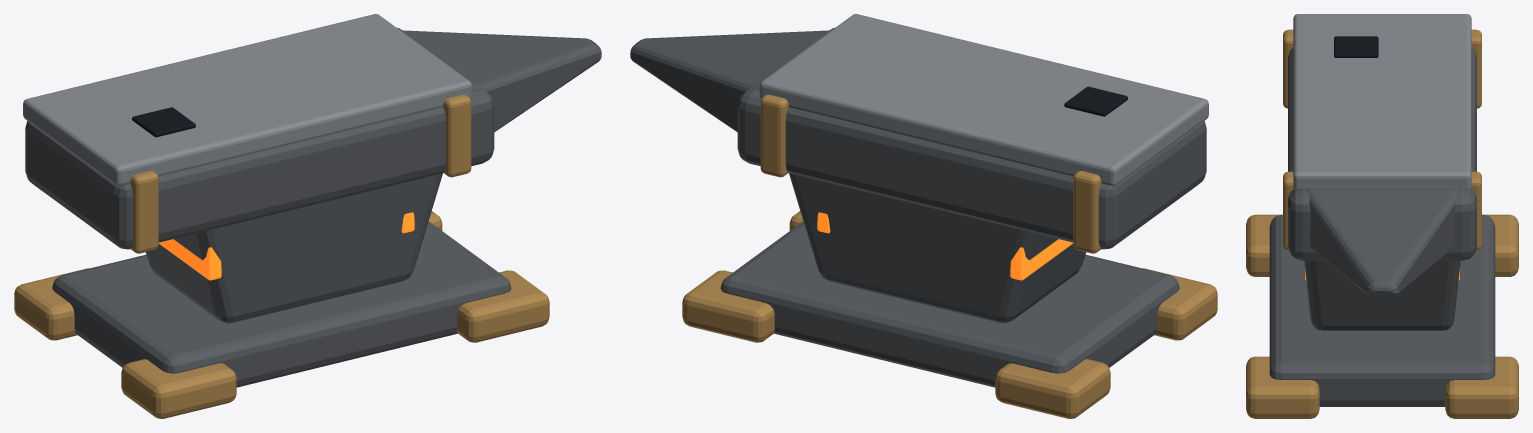
The model's file is forging-anvil-2_5d.glb.
3 renders of one model, left to right at view 1: azimuth 30°, elevation 25°; view 2: azimuth 150°, elevation 25°; view 3: azimuth 270°, elevation 25°, orthographic. The views are drawn at different scales.
Parts seen in each view (by area): view 1: Strike_Face, Base_Core, Top_Block, Waist, Horn, Foot_FL, Foot_FR, Foot_BL, Top_Brass_-1.53, Top_Brass_+1.03, Hardy_Hole_Inset, Ember_Seam_Left; view 2: Strike_Face, Base_Core, Top_Block, Waist, Horn, Foot_BL, Foot_BR, Foot_FL, Top_Brass_-1.53, Top_Brass_+1.03, Hardy_Hole_Inset, Ember_Seam_Left; view 3: Strike_Face, Base_Core, Horn, Waist, Top_Block, Foot_BR, Foot_FR, Foot_BL, Foot_FL, Top_Brass_+1.03, Top_Brass_-1.53, Hardy_Hole_Inset.
Boxes of the visible parts, box(x1,y1,x2,y2) form: Strike_Face: box(23, 14, 472, 186); Base_Core: box(52, 221, 511, 387); Top_Block: box(25, 28, 494, 249); Waist: box(145, 173, 442, 323); Horn: box(400, 30, 601, 132); Foot_FL: box(121, 359, 236, 418); Foot_FR: box(457, 270, 549, 342); Foot_BL: box(14, 268, 88, 340); Top_Brass_-1.53: box(130, 171, 158, 253); Top_Brass_+1.03: box(443, 94, 471, 177); Hardy_Hole_Inset: box(132, 107, 195, 137); Ember_Seam_Left: box(158, 239, 221, 280); Strike_Face: box(759, 14, 1208, 186); Base_Core: box(720, 221, 1179, 387); Top_Block: box(737, 28, 1206, 249); Waist: box(789, 173, 1086, 323); Horn: box(630, 30, 831, 132); Foot_BL: box(995, 359, 1110, 418); Foot_BR: box(682, 270, 774, 342); Foot_FL: box(1143, 268, 1217, 340); Top_Brass_-1.53: box(1073, 171, 1101, 253); Top_Brass_+1.03: box(760, 94, 788, 177); Hardy_Hole_Inset: box(1064, 86, 1128, 116); Ember_Seam_Left: box(1010, 239, 1073, 280); Strike_Face: box(1293, 14, 1471, 189); Base_Core: box(1269, 214, 1495, 406); Horn: box(1306, 188, 1458, 294); Waist: box(1304, 260, 1460, 330); Top_Block: box(1288, 48, 1476, 260); Foot_BR: box(1445, 356, 1518, 418); Foot_FR: box(1246, 356, 1319, 418); Foot_BL: box(1484, 214, 1518, 276); Foot_FL: box(1246, 214, 1280, 276); Top_Brass_+1.03: box(1283, 171, 1481, 250); Top_Brass_-1.53: box(1283, 29, 1481, 108); Hardy_Hole_Inset: box(1334, 36, 1378, 57).
Size of the model in its own units: 4.32 by 1.91 by 2.08.
